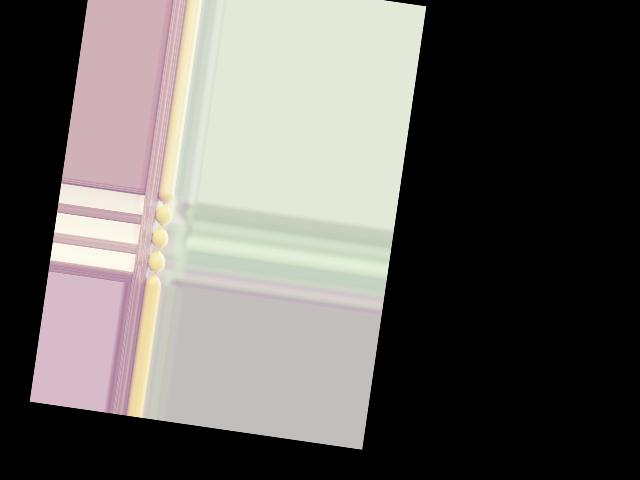lemon: (145, 274, 162, 287)
